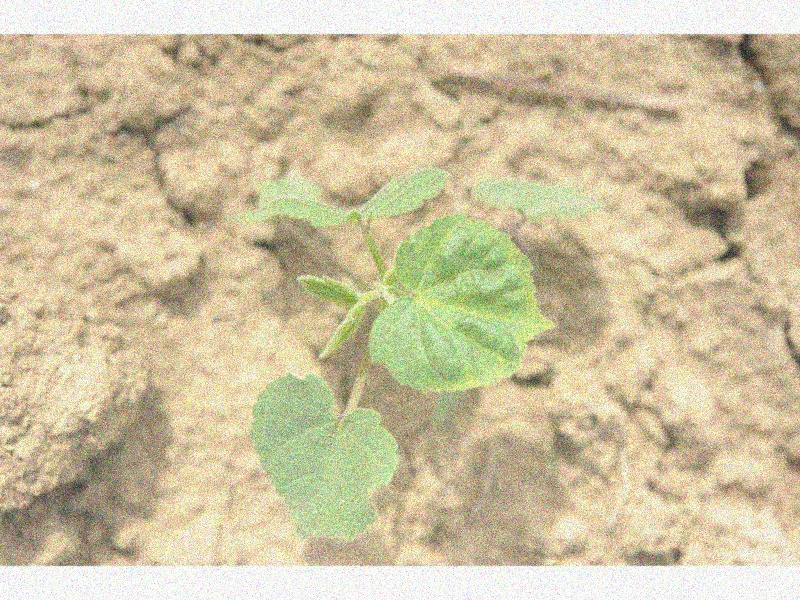velvet: (228, 165, 603, 539)
